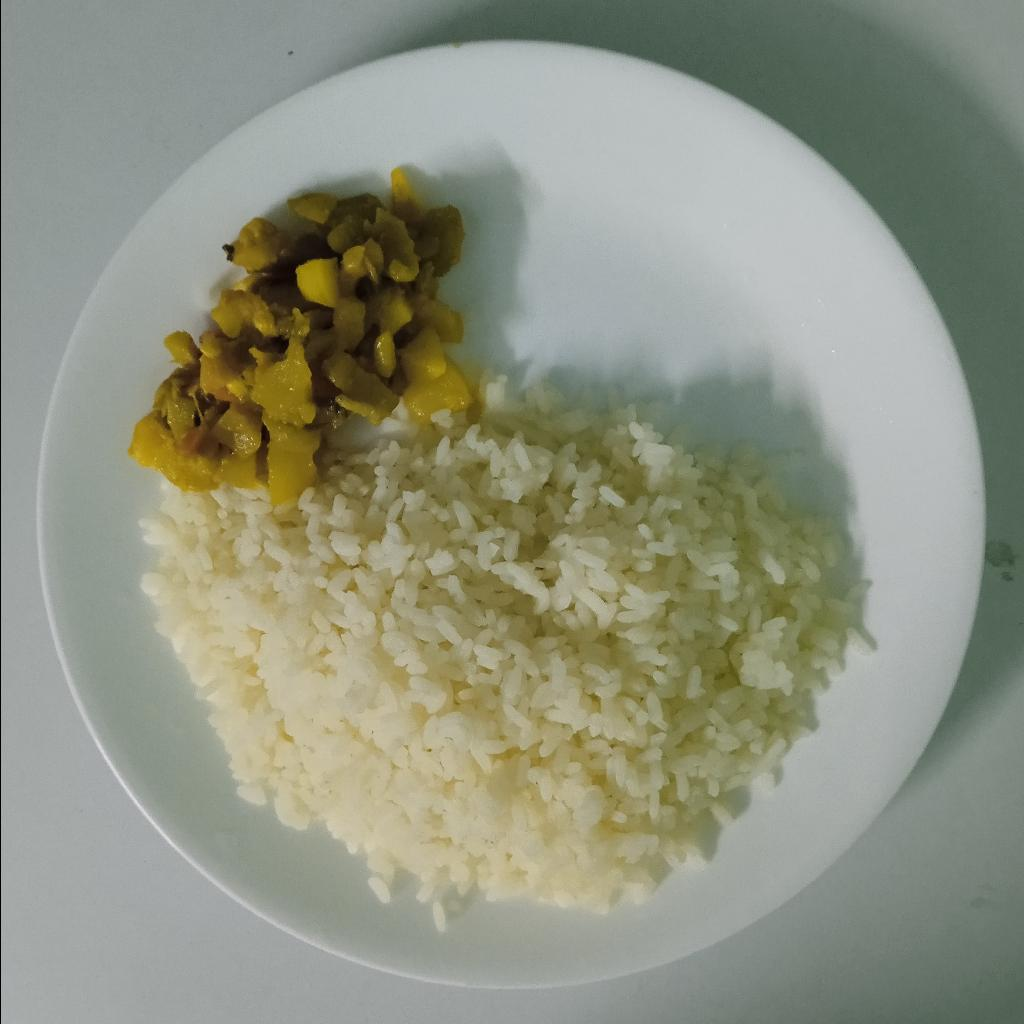kumra-vaji: (128, 166, 469, 503)
rice: (136, 379, 869, 930)
